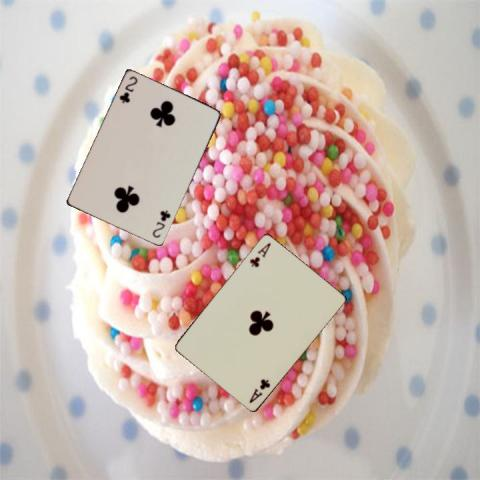2c: (149, 208, 172, 240), (116, 73, 138, 105)
Ac: (246, 375, 272, 405), (247, 239, 272, 269)
